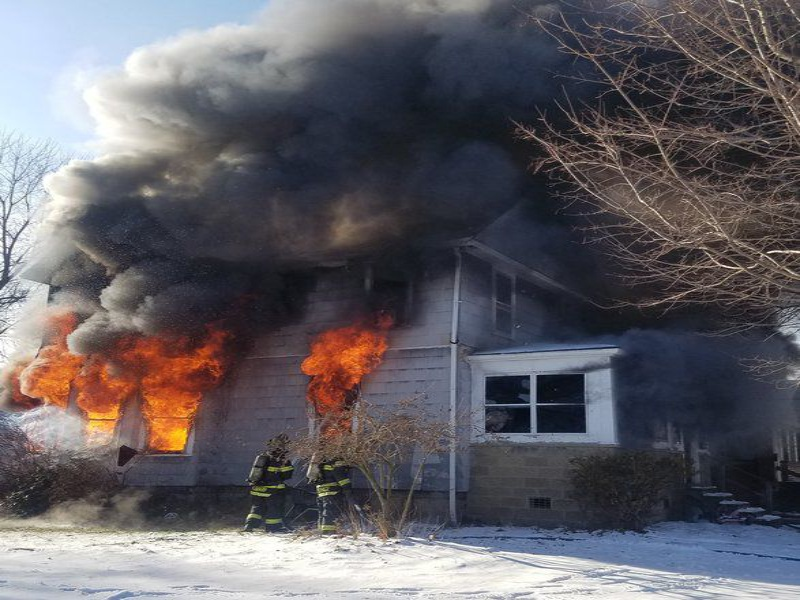fire: (293, 318, 382, 423), (131, 365, 211, 456), (80, 398, 122, 444)
